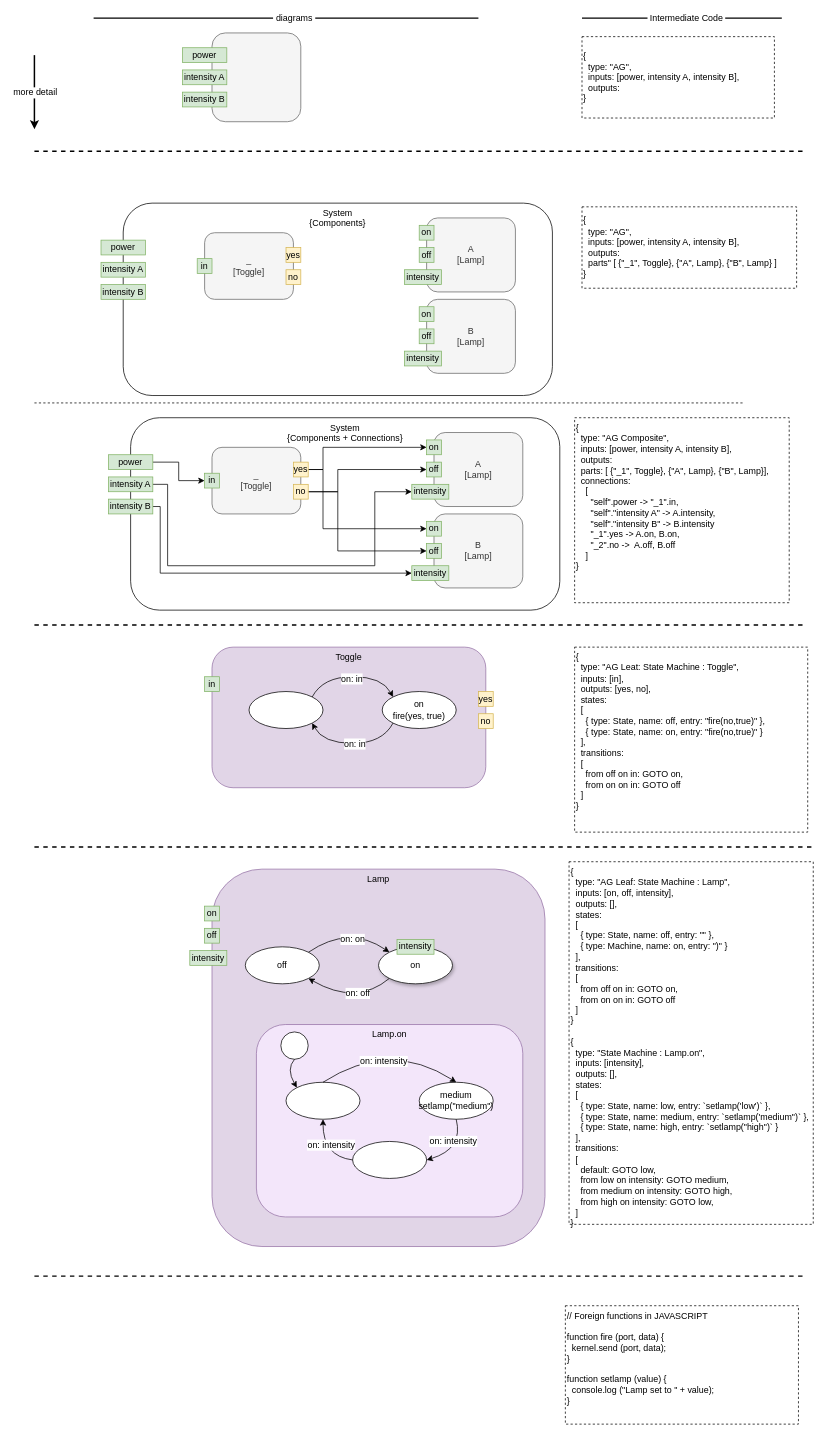
Some shapes in this 826 by 1437 pixel diagram are drawn without their labels. The shapes that lost their labels are listed below. From the top down, each one's centre as x and y in pixels, then its label:
[256,77]: _ [System]
[285,710]: off fire(no, true)
[322,1100]: low setlamp("low")
[389,1159]: high setlamp("high")
